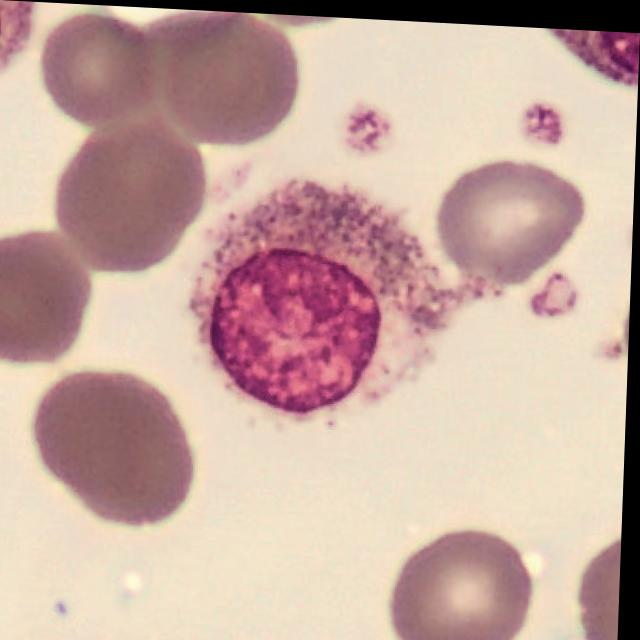Mielocito: (193, 177, 441, 415)
